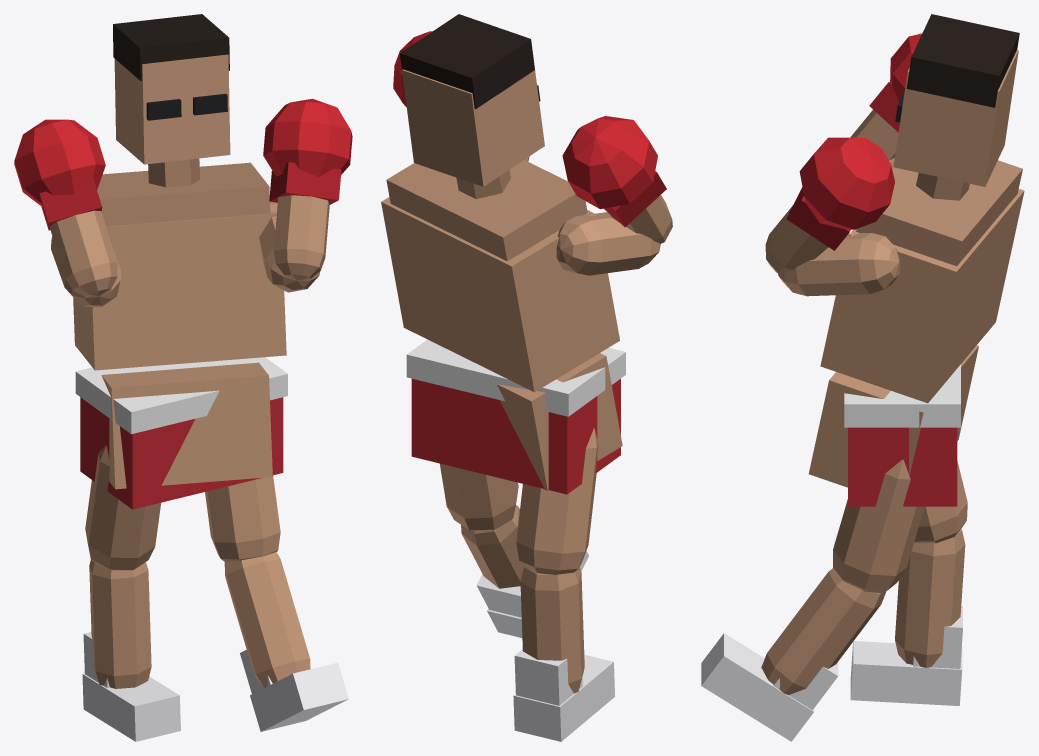
Rendered from boxer.obj.
The picture shows the model from 3 angles, left to right: view 1: azimuth 30°, elevation 25°; view 2: azimuth 150°, elevation 25°; view 3: azimuth 270°, elevation 25°; orthographic projection. The views are drawn at different scales.
Parts seen in each view (by area): view 1: boxer; view 2: boxer; view 3: boxer.
Boxes of the visible parts, x1,y1,x2,y2 form: boxer: [14, 14, 352, 741]; boxer: [381, 14, 672, 741]; boxer: [701, 14, 1024, 741].
Bounding box in the file's own units: 0.9501 × 2.09 × 0.8879.
